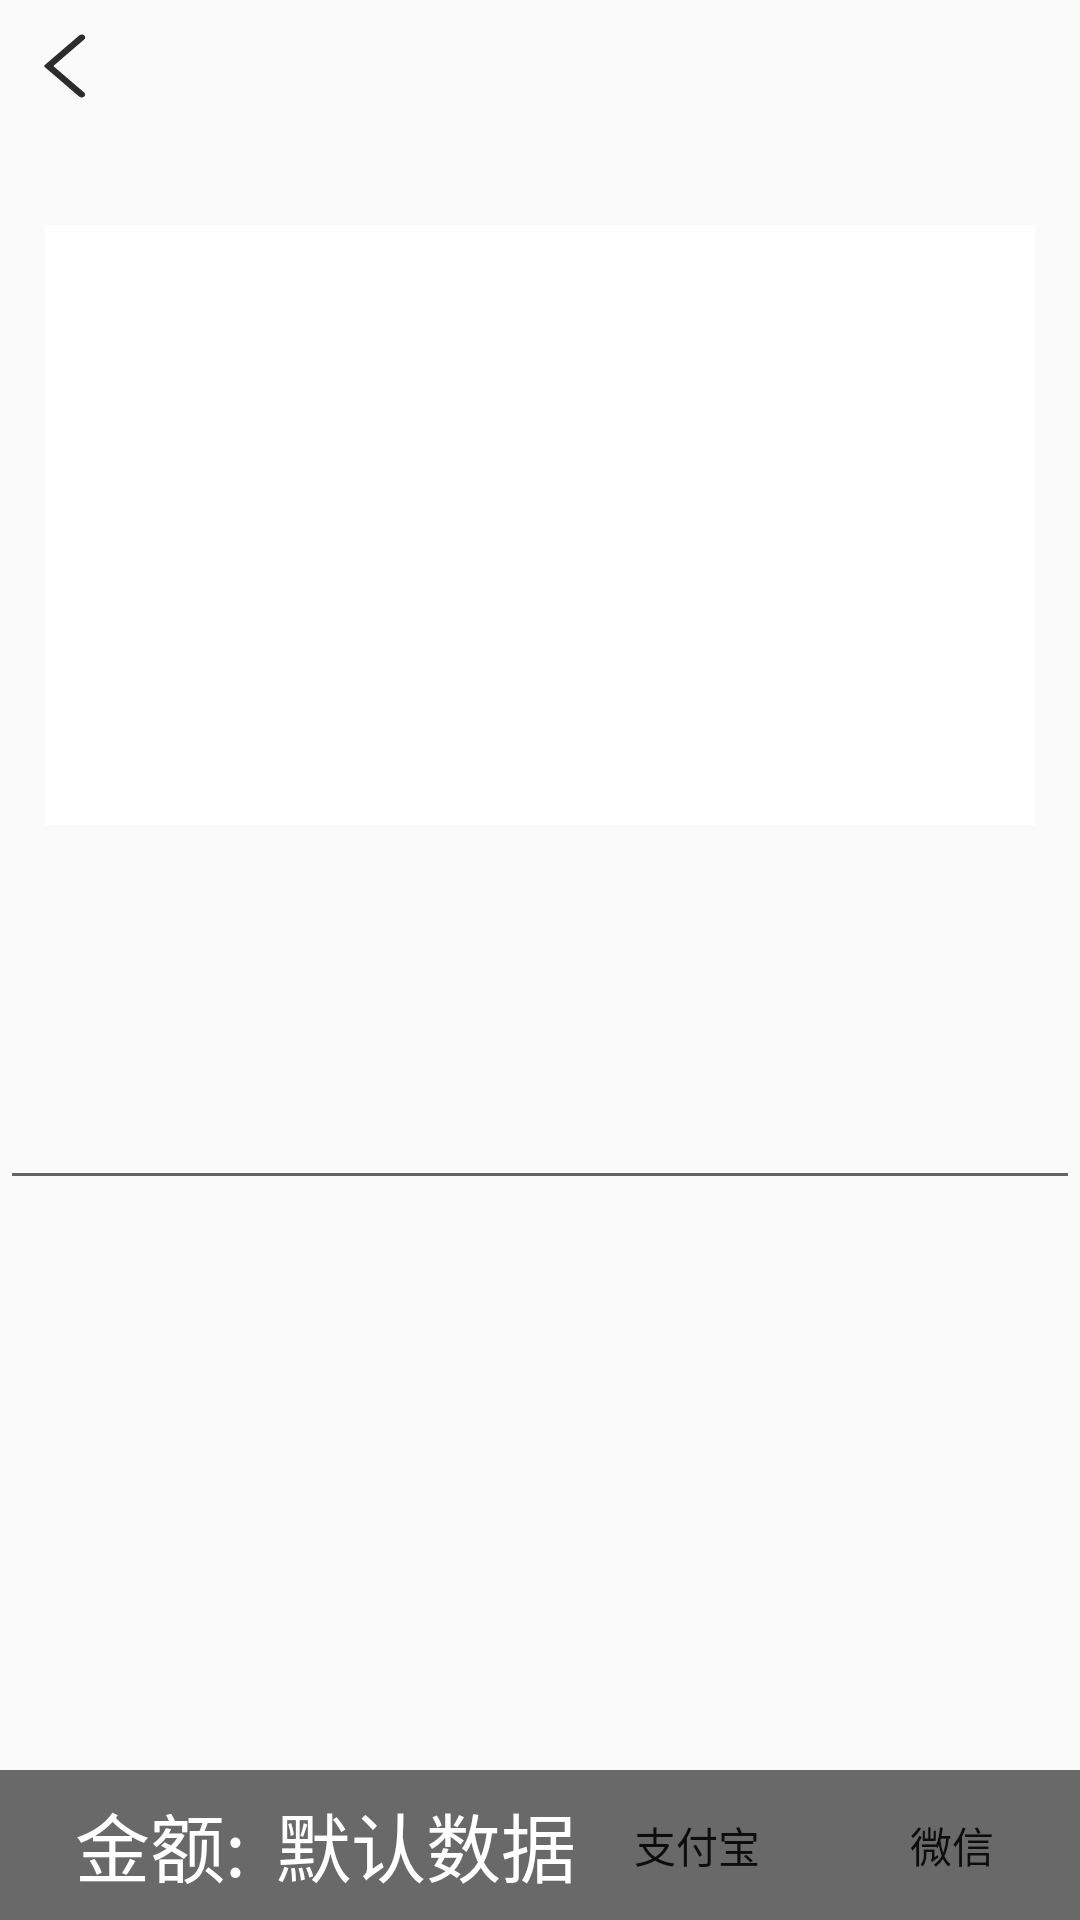

Named icons in this screenshot (1080×1920) and their centers, (x,y):
return: (65,66)
